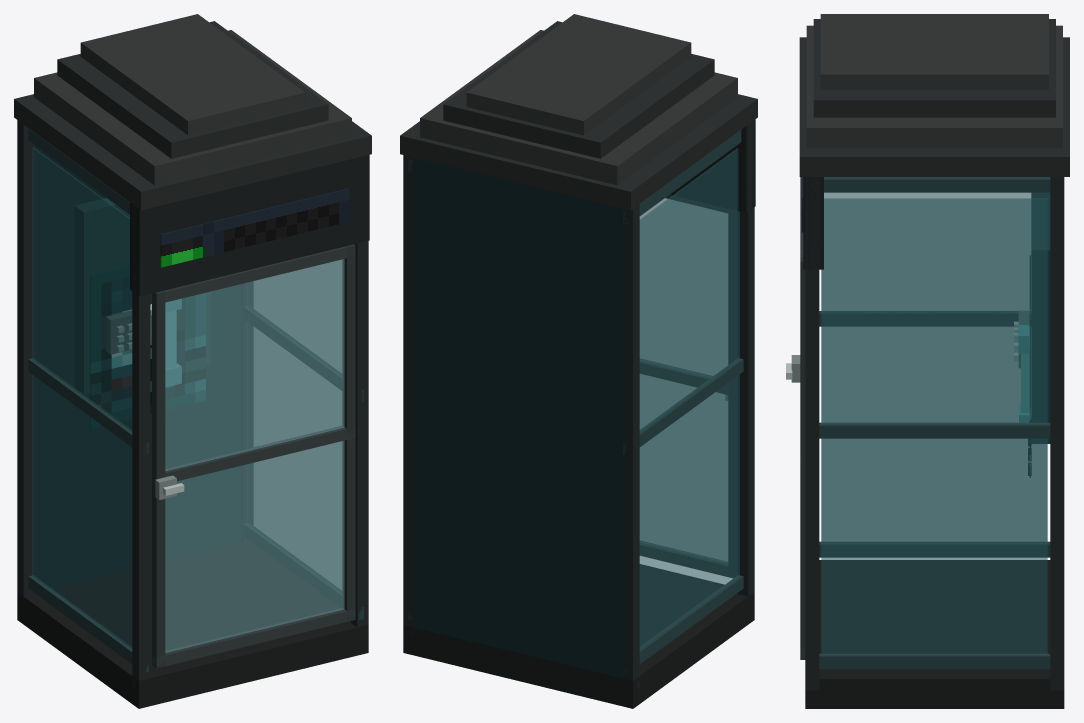
File: CMU3DPhoneboxOnCloud.glb
The picture shows the model from 3 angles, left to right: view 1: azimuth 30°, elevation 25°; view 2: azimuth 150°, elevation 25°; view 3: azimuth 270°, elevation 25°; orthographic projection. The views are drawn at different scales.
Visible parts, largest first — view 1: inset cyan side glass (×4), door inset glass (×2), booth rear wall, booth plinth, stepped booth cap 3, overdoor header, door vertical frame (×2), stepped booth cap 1, stepped booth cap 0, side transverse mullion (×5), original cyan handset keypad and cradle, door transverse rail (×3) (+9 smaller); view 2: booth rear wall, inset cyan side glass (×2), door inset glass (×2), stepped booth cap 3, booth plinth, stepped booth cap 1, stepped booth cap 0, stepped booth cap 2, full height booth post 0-1, full height booth post 0-0, full height booth post 1-1, side transverse mullion (×3) (+3 smaller); view 3: inset cyan side glass (×4), booth plinth, side transverse mullion (×5), stepped booth cap 3, stepped booth cap 1, stepped booth cap 0, stepped booth cap 2, full height booth post 1-1, full height booth post 1-0, rear phone mount panel, door vertical frame, overdoor header (+1 smaller).
Part boxes in pixels (left/top/right/bottom): inset cyan side glass (×4): left=32, top=147, right=341, bottom=648; door inset glass (×2): left=165, top=259, right=344, bottom=652; booth rear wall: left=35, top=145, right=241, bottom=588; booth plinth: left=17, top=541, right=368, bottom=708; stepped booth cap 3: left=80, top=14, right=305, bottom=135; overdoor header: left=130, top=155, right=369, bottom=296; door vertical frame (×2): left=152, top=244, right=355, bottom=668; stepped booth cap 1: left=34, top=30, right=351, bottom=185; stepped booth cap 0: left=14, top=94, right=371, bottom=210; side transverse mullion (×5): left=28, top=128, right=363, bottom=672; original cyan handset keypad and cradle: left=90, top=265, right=205, bottom=428; door transverse rail (×3): left=152, top=245, right=355, bottom=667; booth rear wall: left=411, top=157, right=624, bottom=678; inset cyan side glass (×2): left=639, top=148, right=739, bottom=648; door inset glass (×2): left=639, top=198, right=727, bottom=563; stepped booth cap 3: left=466, top=14, right=691, bottom=135; booth plinth: left=403, top=564, right=754, bottom=708; stepped booth cap 1: left=420, top=30, right=737, bottom=185; stepped booth cap 0: left=400, top=94, right=757, bottom=210; stepped booth cap 2: left=443, top=21, right=714, bottom=158; full height booth post 0-1: left=621, top=204, right=639, bottom=689; full height booth post 0-0: left=737, top=120, right=754, bottom=596; full height booth post 1-1: left=403, top=155, right=414, bottom=637; side transverse mullion (×3): left=623, top=130, right=743, bottom=671; inset cyan side glass (×4): left=821, top=192, right=1047, bottom=654; booth plinth: left=805, top=560, right=1064, bottom=708; side transverse mullion (×5): left=819, top=177, right=1050, bottom=669; stepped booth cap 3: left=820, top=14, right=1048, bottom=89; stepped booth cap 1: left=806, top=25, right=1062, bottom=148; stepped booth cap 0: left=799, top=37, right=1069, bottom=176; stepped booth cap 2: left=813, top=19, right=1055, bottom=117; full height booth post 1-1: left=1050, top=177, right=1064, bottom=690; full height booth post 1-0: left=805, top=177, right=819, bottom=690; rear phone mount panel: left=1031, top=192, right=1050, bottom=443; door vertical frame: left=800, top=257, right=805, bottom=659; overdoor header: left=803, top=177, right=823, bottom=269.
Bounding box in the file's own units: 0.69 × 1.62 × 0.691.
21 materials, 2 textured.
